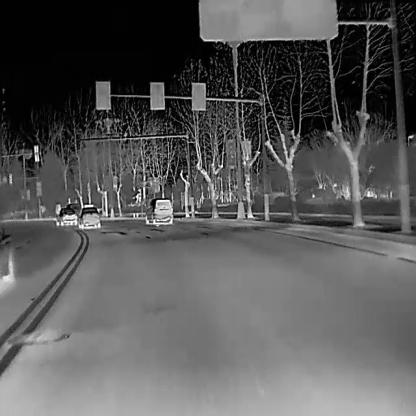car: (144, 196, 173, 224), (77, 204, 100, 227), (54, 206, 76, 225)
